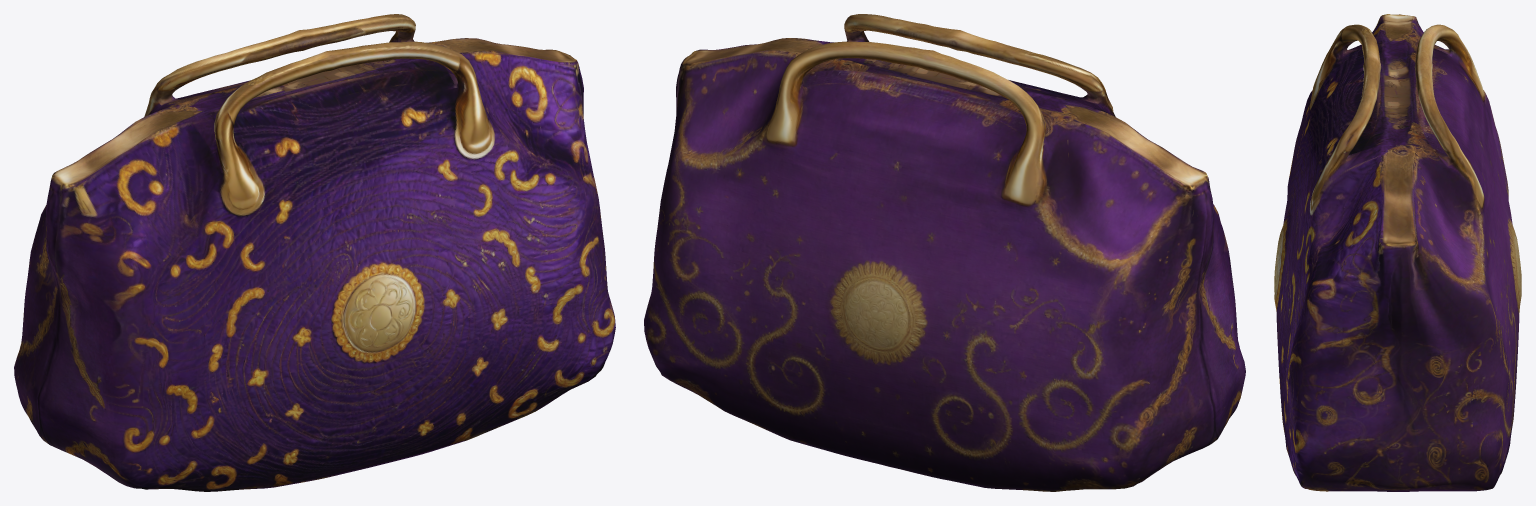
The model's file is Purple_Swirl_Bag_0613135622_texture.fbx.
3 views of the same model, side by side, from view 1: azimuth 30°, elevation 25°; view 2: azimuth 150°, elevation 25°; view 3: azimuth 270°, elevation 25° (orthographic). The views are drawn at different scales.
Visible parts, largest first — view 1: Mesh1_Mesh1.131; view 2: Mesh1_Mesh1.131; view 3: Mesh1_Mesh1.131.
Boxes of the visible parts, x1,y1,x2,y2 form: Mesh1_Mesh1.131: (14, 14, 615, 491); Mesh1_Mesh1.131: (644, 14, 1245, 491); Mesh1_Mesh1.131: (1274, 14, 1521, 491).
Bounding box in the file's own units: 200 × 136 × 84.85.
Materials: 1 (1 with a texture image).
